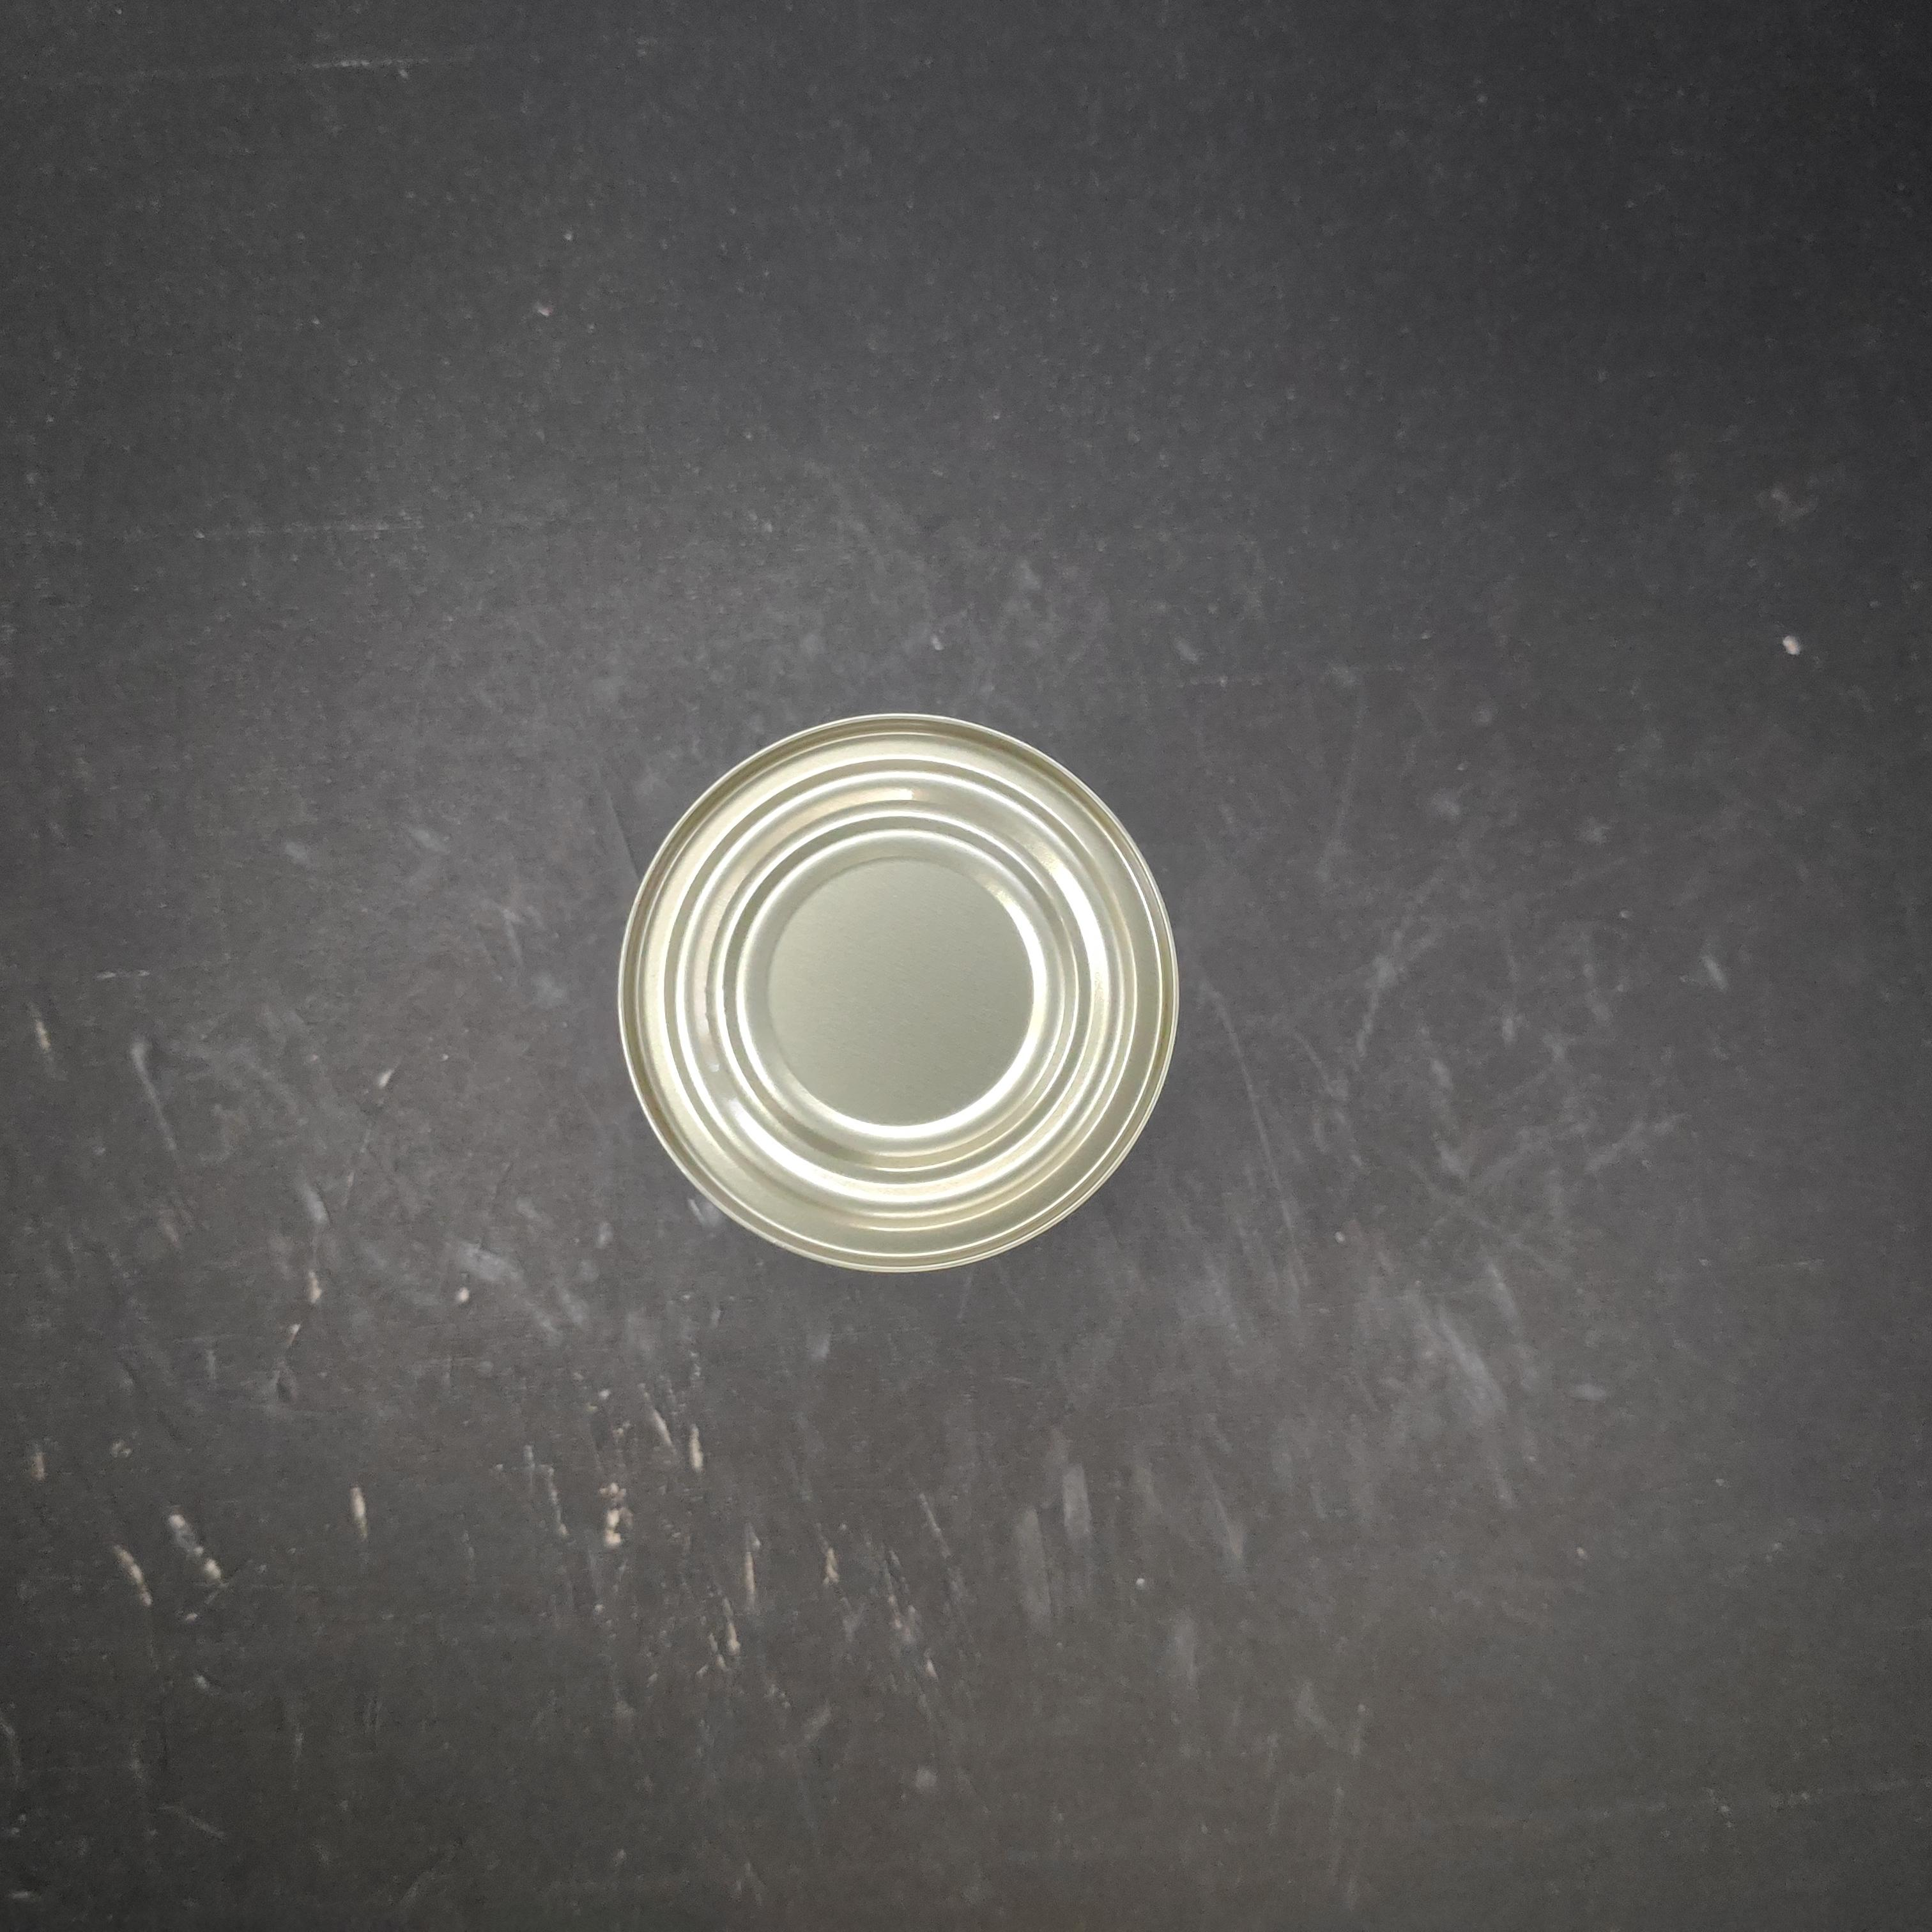No defect: (709, 750, 1276, 1316)
